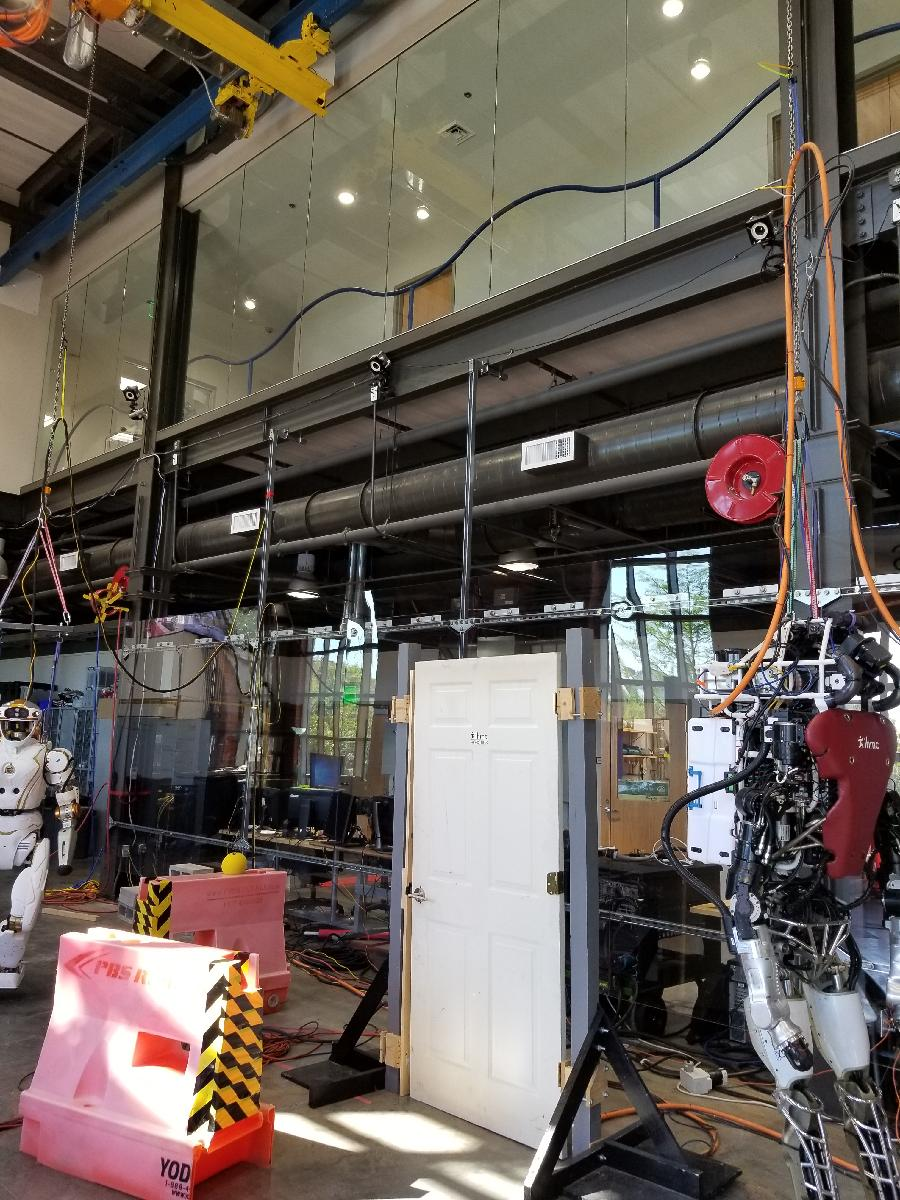door: (404, 649, 569, 1156)
doorHandle: (412, 888, 430, 902)
